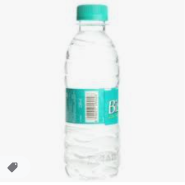Bottle: (66, 5, 120, 175)
